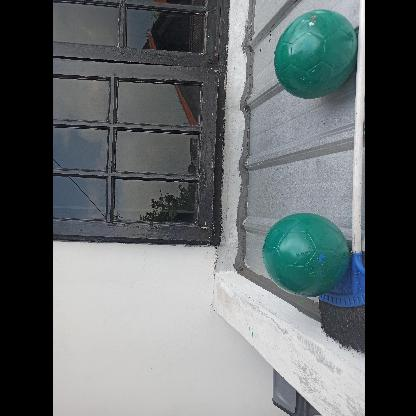green_ball: (265, 5, 357, 97), (262, 212, 346, 297)
